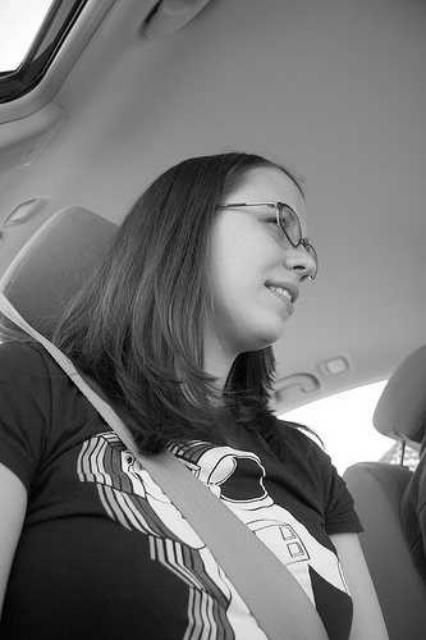Seatbelt: (0, 274, 336, 640)
